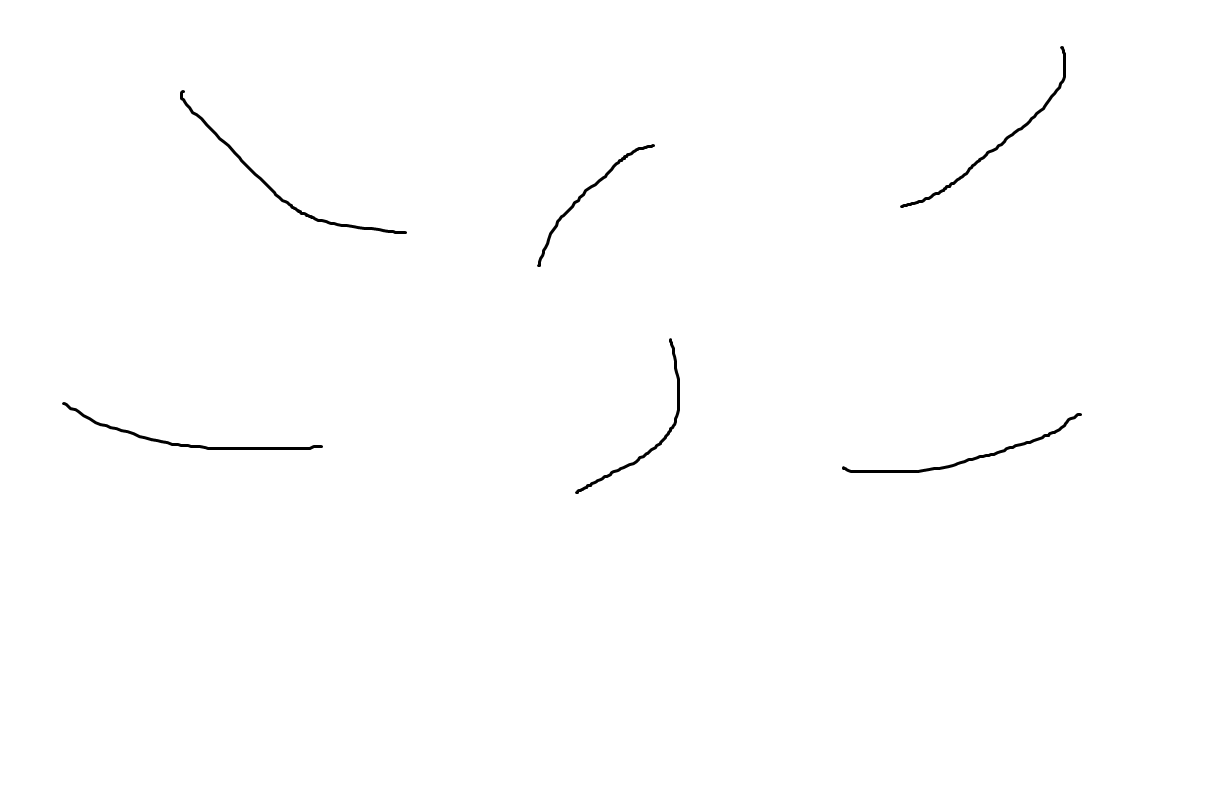tube: (168, 77, 405, 244), (888, 38, 1080, 223), (831, 398, 1096, 506), (571, 326, 701, 503), (51, 390, 330, 471), (516, 133, 666, 279)
